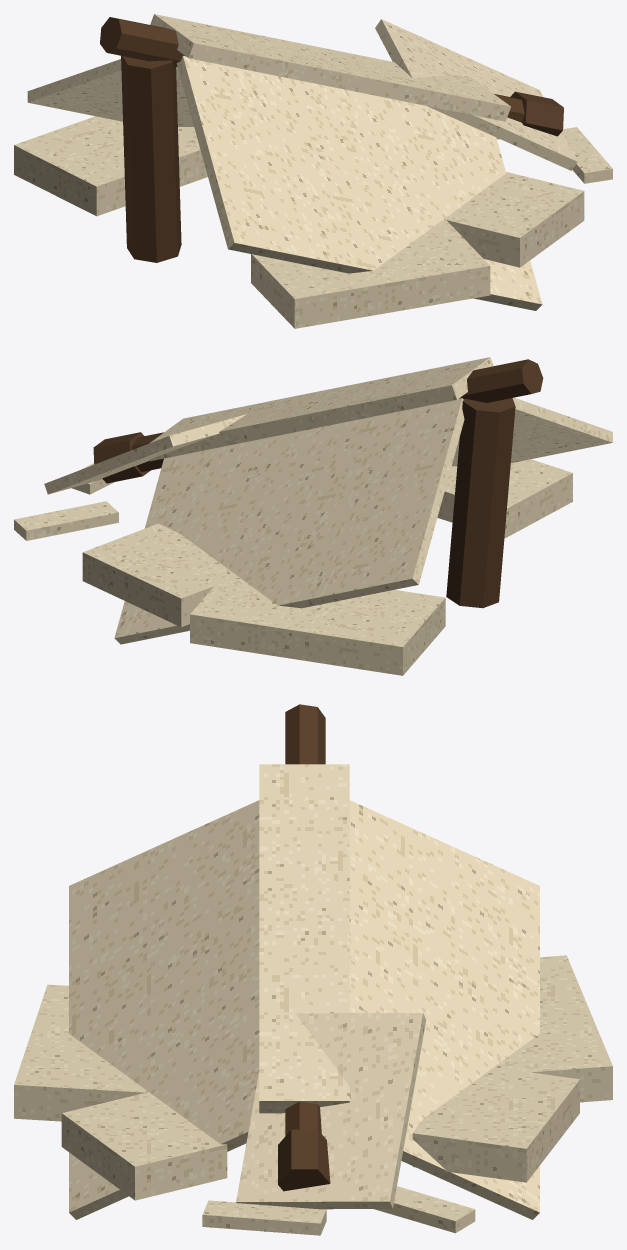
Rendered from sailcloth.glb.
3 views of the same model, one above another, from view 1: azimuth 30°, elevation 25°; view 2: azimuth 150°, elevation 25°; view 3: azimuth 270°, elevation 25° (orthographic). The views are drawn at different scales.
Parts seen in each view (by area): view 1: drape_panel_1, ground_fold_2, drape_ridge, spar_stump, ground_fold_0, ground_fold_3, drape_tail, drape_panel_0, broken_spar, torn_strip_1, spar_snap; view 2: drape_panel_0, ground_fold_0, spar_stump, drape_ridge, ground_fold_1, ground_fold_2, drape_panel_1, broken_spar, drape_tail, torn_strip_0, spar_snap; view 3: drape_panel_1, drape_panel_0, drape_ridge, drape_tail, ground_fold_1, ground_fold_3, ground_fold_2, ground_fold_0, broken_spar, torn_strip_1, spar_snap, torn_strip_0.
Part boxes in pixels (x1,y1,x2,y2): drape_panel_1: (176, 56, 542, 310); ground_fold_2: (251, 220, 490, 328); drape_ridge: (150, 14, 510, 121); spar_stump: (121, 56, 181, 262); ground_fold_0: (14, 116, 207, 216); ground_fold_3: (444, 172, 584, 267); drape_tail: (375, 19, 577, 170); drape_panel_0: (27, 59, 193, 126); broken_spar: (100, 17, 524, 122); torn_strip_1: (562, 127, 612, 183); spar_snap: (510, 91, 563, 136); drape_panel_0: (114, 398, 464, 644); ground_fold_0: (190, 569, 445, 675); spar_stump: (446, 398, 515, 608); drape_ridge: (149, 357, 493, 461); ground_fold_1: (82, 523, 228, 627); ground_fold_2: (437, 459, 572, 538); drape_panel_1: (452, 397, 612, 466); broken_spar: (132, 359, 543, 471); drape_tail: (44, 414, 246, 494); torn_strip_0: (14, 501, 118, 540); spar_snap: (93, 432, 150, 483); drape_panel_1: (69, 800, 259, 1219); drape_panel_0: (349, 800, 539, 1219); drape_ridge: (259, 764, 349, 1113); drape_tail: (236, 1013, 426, 1209); ground_fold_1: (412, 1067, 579, 1182); ground_fold_3: (61, 1092, 227, 1200); ground_fold_2: (14, 984, 146, 1121); ground_fold_0: (482, 955, 612, 1102); broken_spar: (285, 704, 325, 1135); torn_strip_1: (202, 1200, 326, 1235); spar_snap: (278, 1129, 330, 1191); torn_strip_0: (374, 1186, 475, 1233).
Size of what is drawn, in the model's own units: 2.37 by 1.4 by 2.25.
2 materials, 1 textured.
